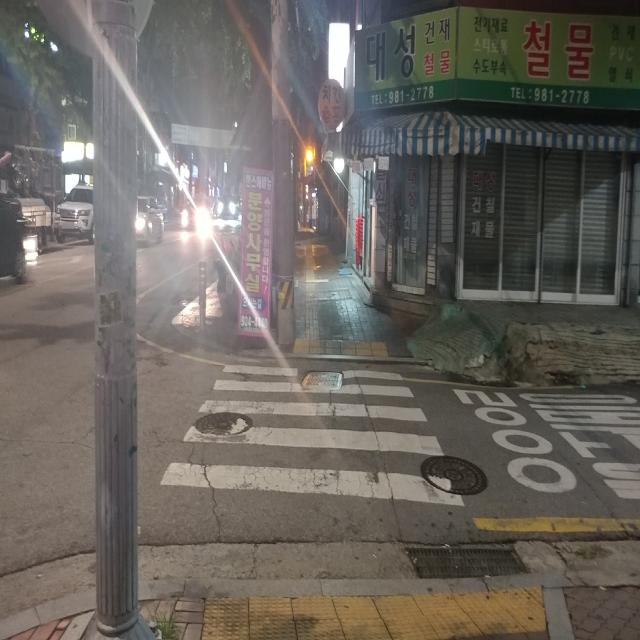횡단보도: (160, 364, 464, 504)
